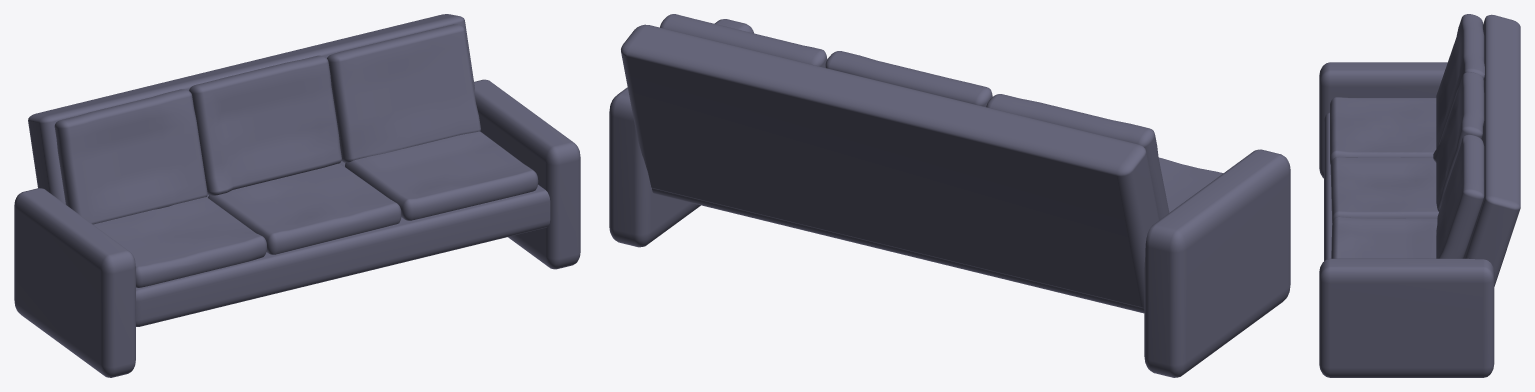
File: couch.fbx
The picture shows the model from 3 angles, left to right: view 1: azimuth 30°, elevation 25°; view 2: azimuth 150°, elevation 25°; view 3: azimuth 270°, elevation 25°; orthographic projection. The views are drawn at different scales.
Visible parts, largest first — view 1: pCube4, pCube1, pCube9, pCube10, pCube8, pCube7, pCube6, pCube3, pCube5, pCube2; view 2: pCube2, pCube4, pCube3, pCube8, pCube9, pCube10, pCube1, pCube5; view 3: pCube3, pCube2, pCube6, pCube5, pCube4, pCube7, pCube10, pCube9, pCube8, pCube1.
Boxes of the visible parts, x1,y1,x2,y2 form: pCube4: [14, 188, 135, 377]; pCube1: [136, 184, 550, 326]; pCube9: [189, 55, 341, 195]; pCube10: [327, 24, 480, 162]; pCube8: [54, 89, 207, 224]; pCube7: [345, 131, 538, 220]; pCube6: [208, 163, 401, 254]; pCube3: [474, 79, 580, 269]; pCube5: [93, 197, 266, 287]; pCube2: [28, 14, 474, 204]; pCube2: [621, 24, 1158, 307]; pCube4: [1144, 149, 1290, 377]; pCube3: [609, 19, 753, 247]; pCube8: [986, 94, 1169, 219]; pCube9: [825, 51, 992, 106]; pCube10: [660, 14, 827, 67]; pCube1: [652, 188, 1144, 313]; pCube5: [1158, 157, 1223, 212]; pCube3: [1319, 258, 1494, 377]; pCube2: [1463, 14, 1520, 286]; pCube6: [1330, 157, 1438, 222]; pCube5: [1330, 97, 1436, 164]; pCube4: [1319, 62, 1447, 178]; pCube7: [1331, 216, 1437, 258]; pCube10: [1436, 134, 1484, 258]; pCube9: [1433, 72, 1484, 211]; pCube8: [1436, 14, 1484, 148]; pCube1: [1324, 112, 1332, 260].
Bounding box in the file's own units: 13.48 × 5.22 × 5.44.
